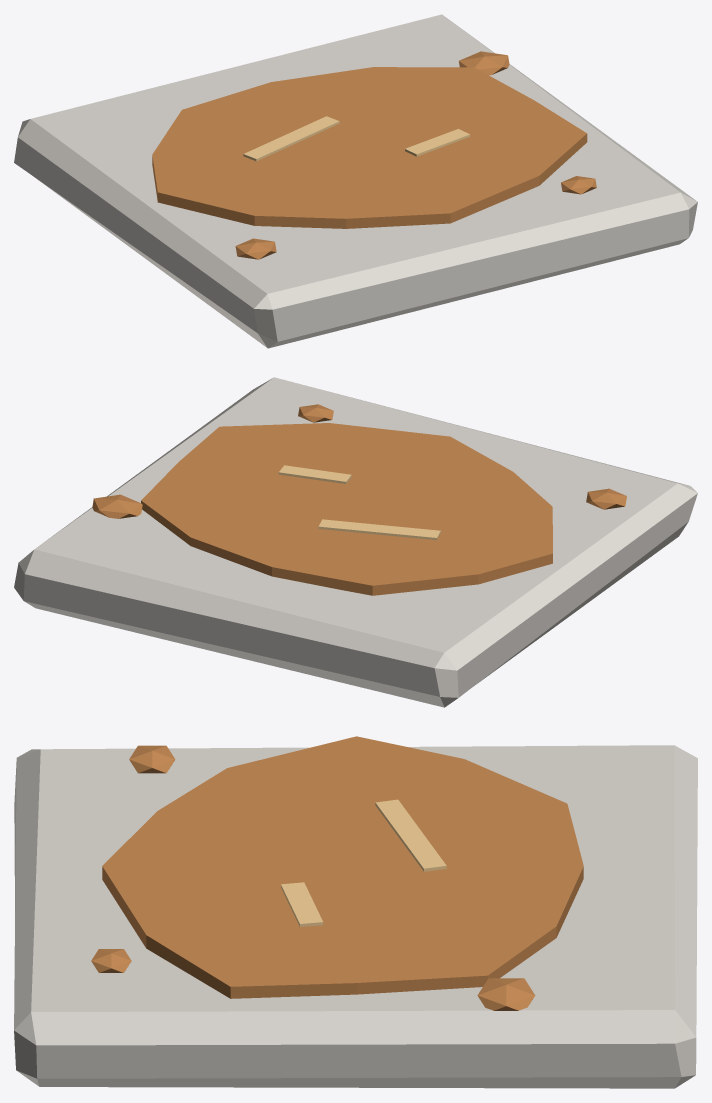
The model's file is sb_sticky_path.glb.
3 renders of one model, top to bottom at view 1: azimuth 30°, elevation 25°; view 2: azimuth 150°, elevation 25°; view 3: azimuth 270°, elevation 25°, orthographic. The views are drawn at different scales.
Parts seen in each view (by area): view 1: sticky_path; view 2: sticky_path; view 3: sticky_path.
Boxes of the visible parts, x1,y1,x2,y2 form: sticky_path: (14,14,697,348); sticky_path: (14,377,697,707); sticky_path: (14,736,697,1088).
Bounding box in the file's own units: 1.01 × 0.1518 × 1.
